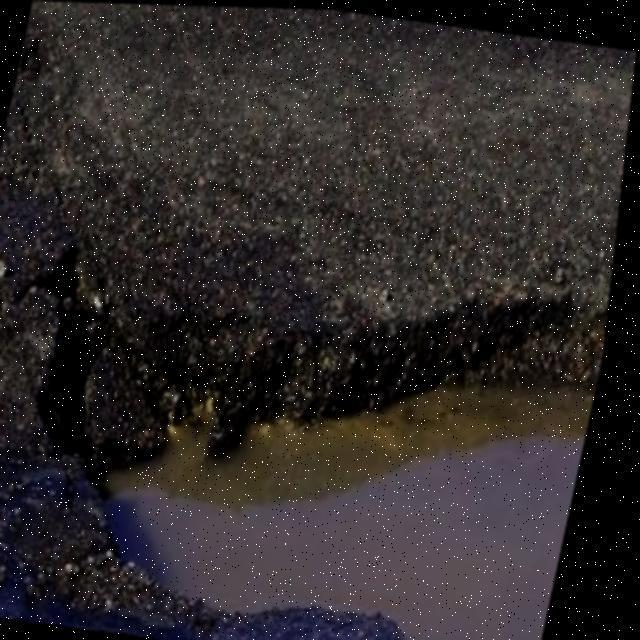pothole: (0, 201, 623, 640)
